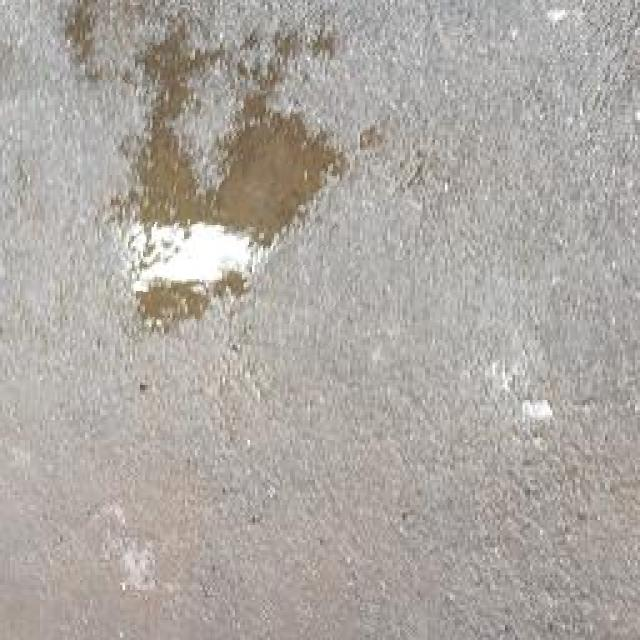puddle: (98, 86, 347, 347)
